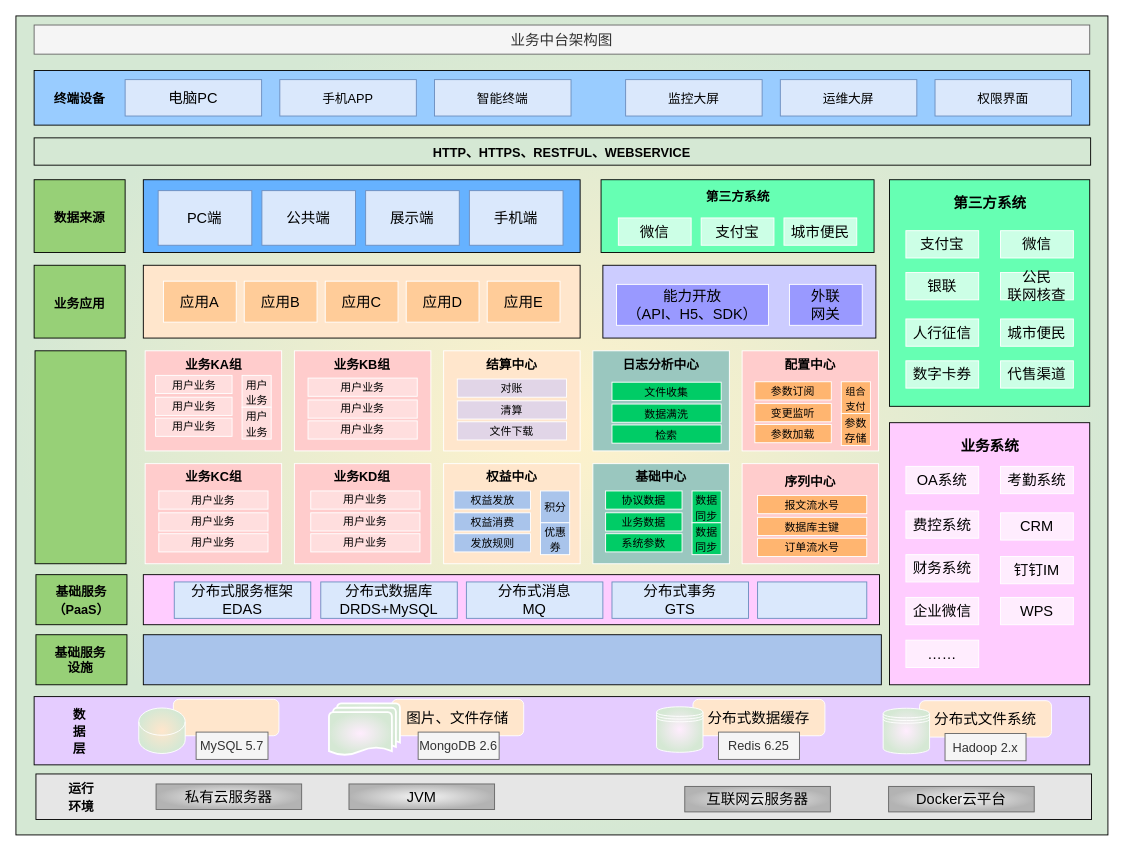
This 1124x851 diagram has some shape labels left out. Here are the shapes that lost their labels. From the top down, the centre of each, then its label:
At (80,457): "互联网 业务中台".
At (812,599): "实时监控服务".
At (511,659): "IaaS（VMWare）".
At (225,717): "MySQL数据库 一主两从".
